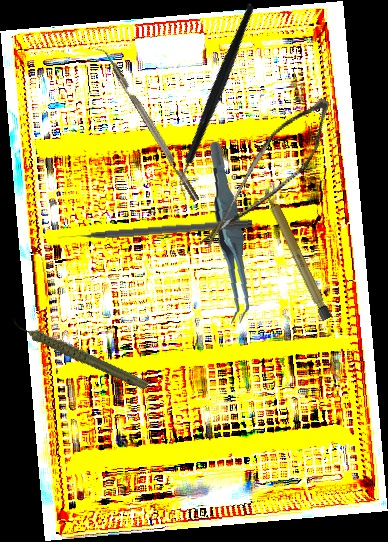Chopper: (123, 2, 312, 199), (92, 42, 200, 208)
Handpiece: (10, 291, 151, 415)
Micro Scissor: (198, 80, 340, 273)
Pusher: (57, 217, 253, 242)
Scalpel Handle: (261, 185, 333, 322)
Tissue Forceps: (196, 140, 262, 326)
